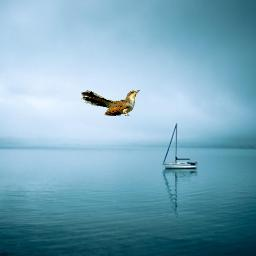Cuckoo: (81, 90, 140, 116)
